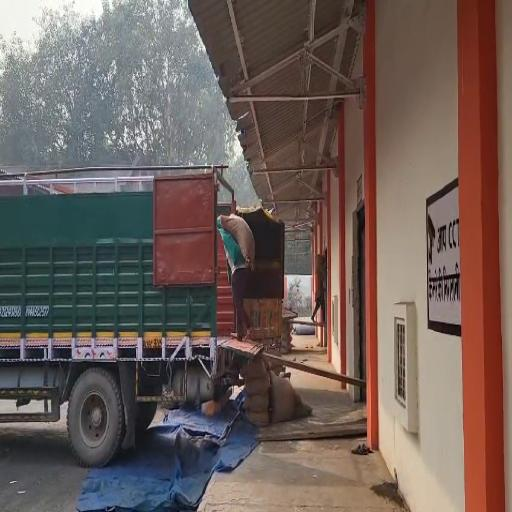bag: (222, 210, 255, 268)
